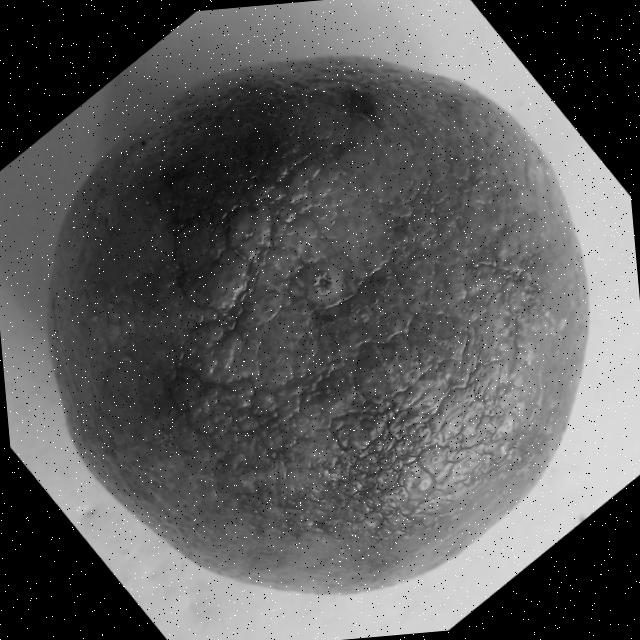overripe: (21, 29, 622, 624)
